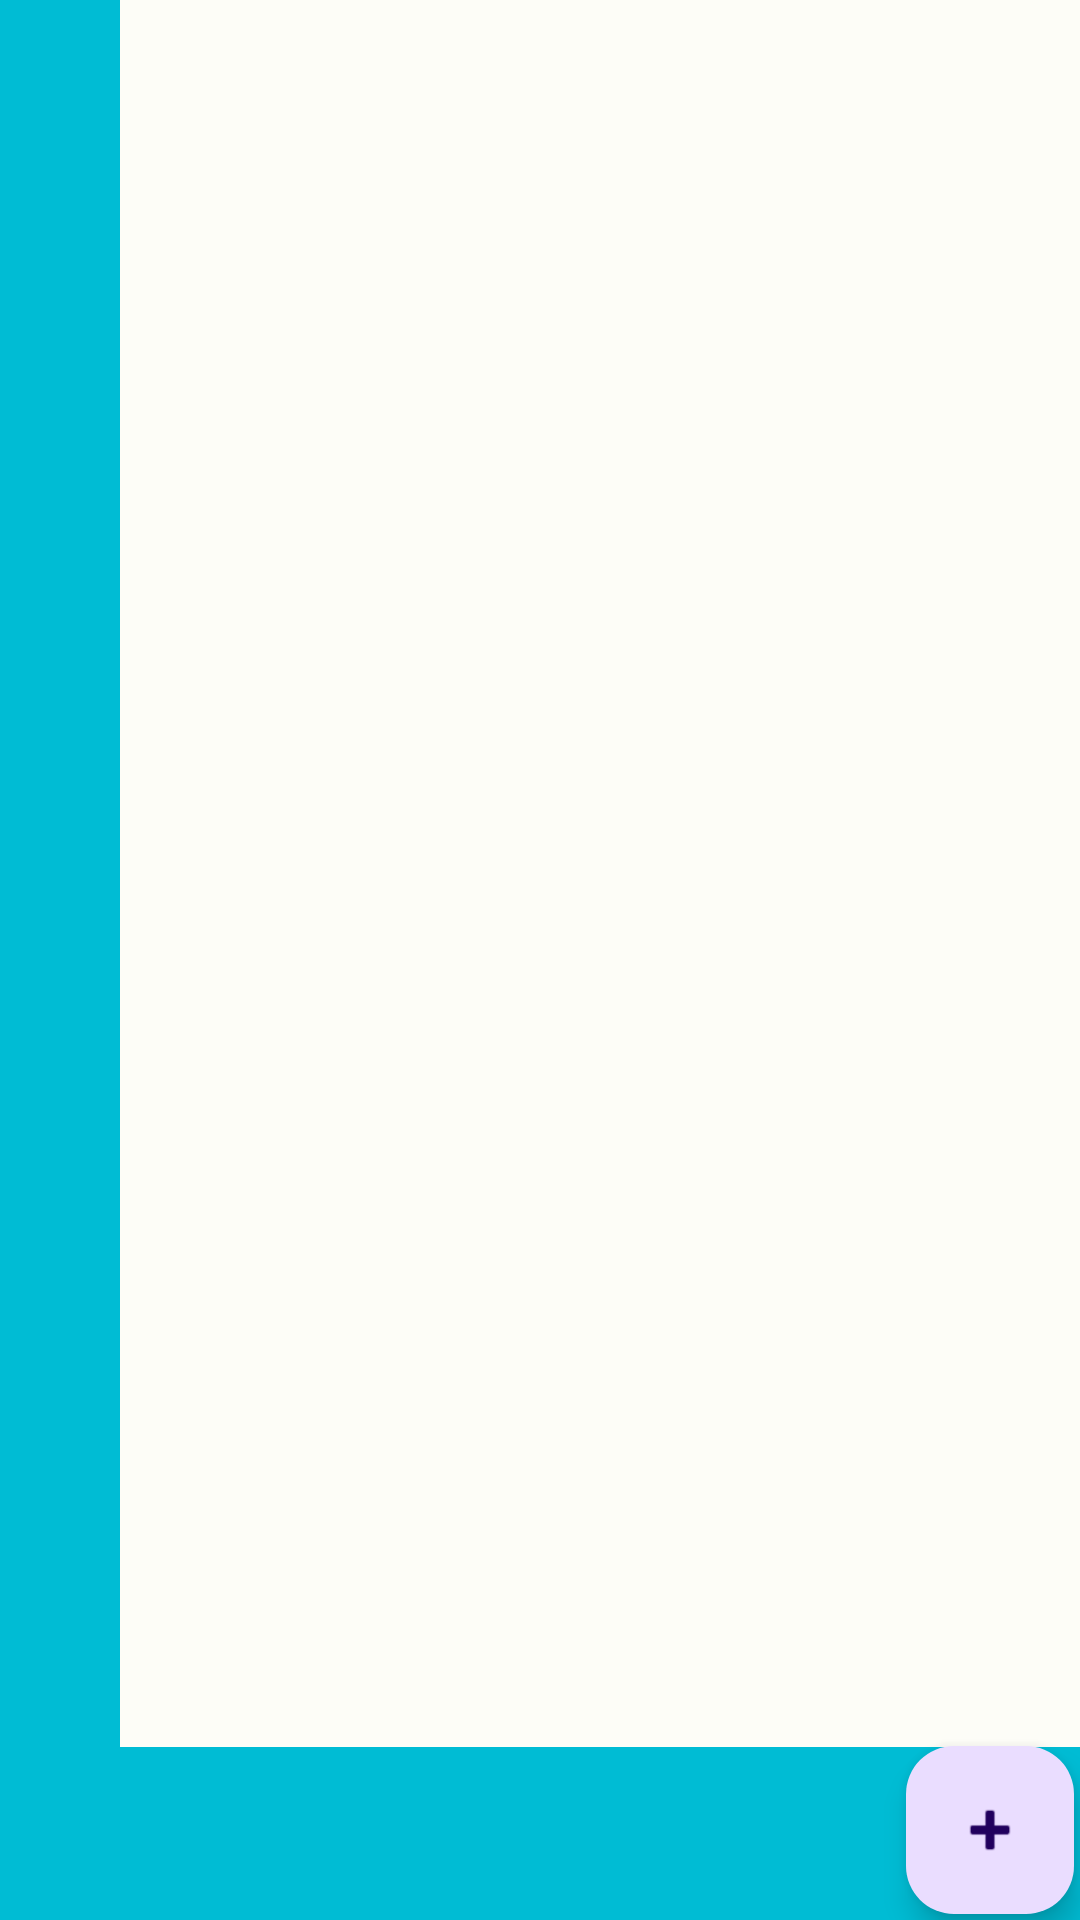

Where to tap for icons on this 1080px×1920px app screen, as (x,y):
add: (990,1830)
